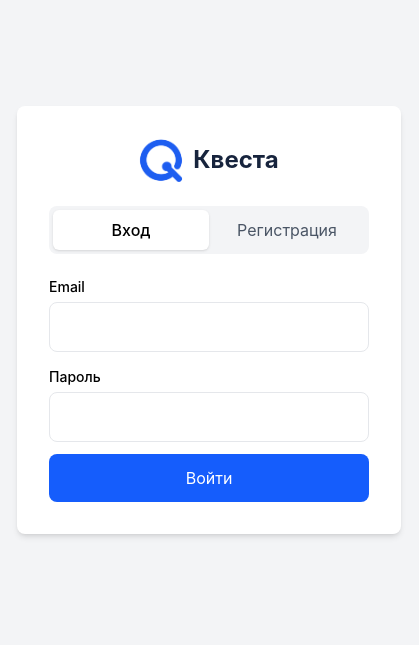
Test: Login › keeps sign-in and registration in separate modes
The width and height of the screenshot is (419, 645).
expect the field labelled "Имя" is not shown: met
Click the tab "Регистрация": (287, 230) [209,210,365,250]
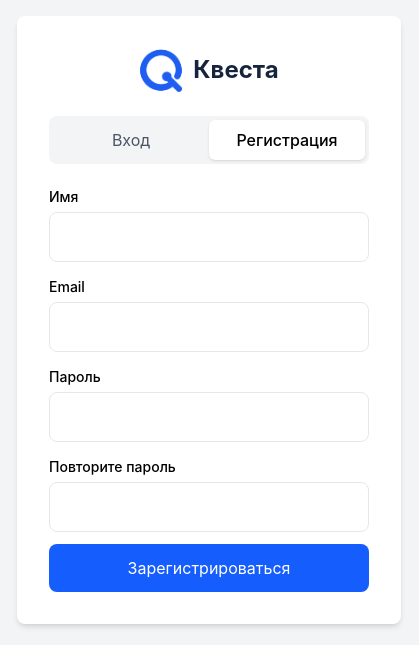
expect the field labelled "Имя" is shown: met, box [49,212,369,262]
expect the password field labelled "Повторите пароль" is shown: met, box [49,482,369,532]
